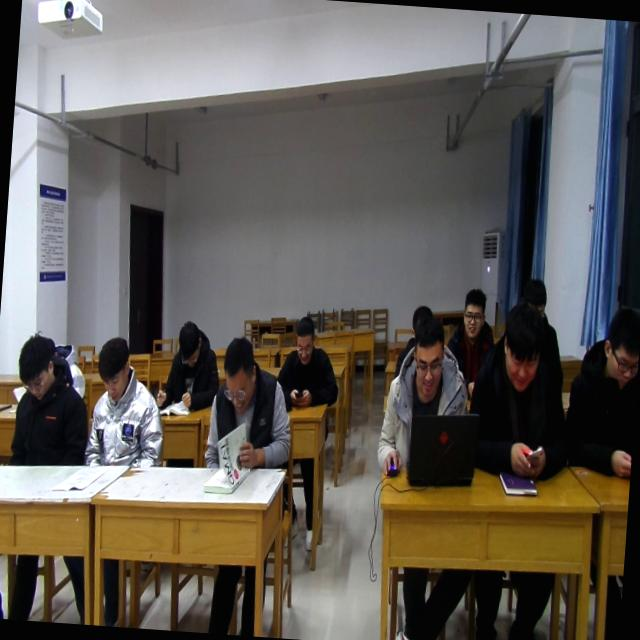down: (496, 293, 550, 399), (594, 297, 640, 389), (406, 310, 450, 400), (216, 331, 259, 415), (89, 330, 134, 409), (11, 329, 58, 404), (173, 316, 205, 366), (290, 315, 318, 369)
lookup: (458, 284, 488, 339)
sit: (466, 298, 576, 482), (262, 314, 342, 554), (375, 310, 476, 484), (561, 298, 640, 484), (200, 334, 297, 474), (80, 334, 170, 473), (7, 332, 94, 470), (154, 316, 224, 413), (511, 276, 572, 382), (444, 284, 499, 399)
